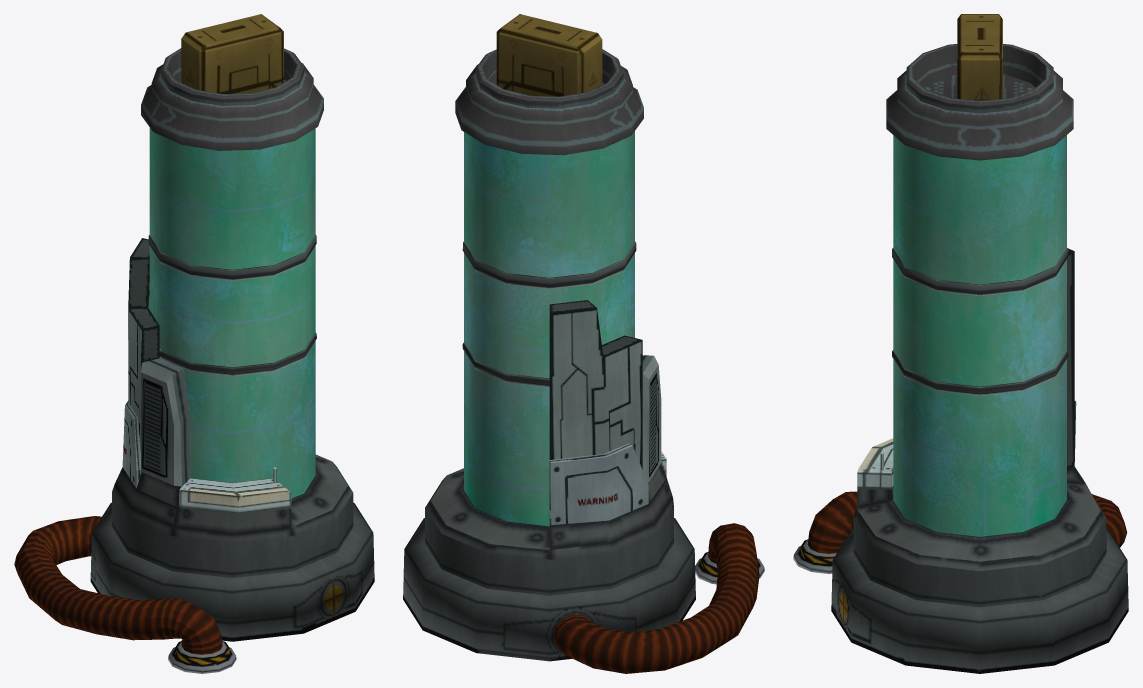
The model's file is CultureTank_Fix.fbx.
3 renders of one model, left to right at view 1: azimuth 30°, elevation 25°; view 2: azimuth 150°, elevation 25°; view 3: azimuth 270°, elevation 25°, orthographic. The views are drawn at different scales.
Parts seen in each view (by area): view 1: Frame, Glass, Pipe, Duct; view 2: Frame, Glass, Pipe, Duct; view 3: Frame, Glass, Pipe, Duct.
Boxes of the visible parts, x1,y1,x2,y2 form: Frame: [90, 14, 374, 641]; Glass: [149, 127, 315, 498]; Pipe: [14, 516, 222, 654]; Duct: [168, 640, 236, 673]; Frame: [403, 14, 695, 661]; Glass: [464, 131, 634, 526]; Pipe: [553, 523, 759, 673]; Duct: [695, 551, 764, 584]; Frame: [831, 14, 1128, 673]; Glass: [893, 135, 1066, 536]; Pipe: [807, 491, 1127, 553]; Duct: [793, 539, 836, 573].
Size of the model in its own units: 163 by 148 by 281.
Materials: 3 (2 with a texture image).
